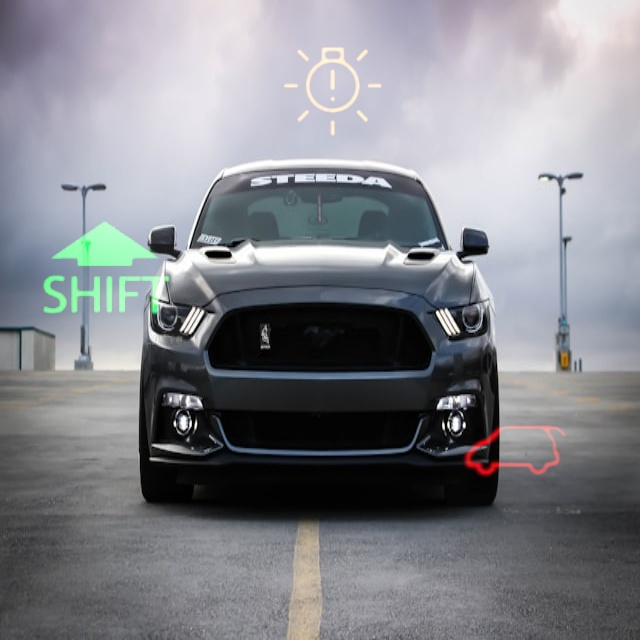symbol: (251, 9, 418, 176), (22, 186, 189, 353), (447, 382, 587, 522)
